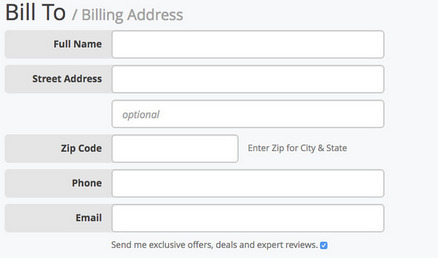_form_: (1, 1, 416, 270)
checkbox: (317, 239, 329, 251)
checkbox_with_label: (110, 238, 332, 253)
field: (110, 168, 386, 198), (110, 30, 385, 59), (110, 65, 385, 94), (111, 100, 385, 129), (110, 204, 385, 232), (111, 134, 239, 163)
field_with_label: (30, 64, 387, 95), (52, 29, 386, 60), (72, 167, 387, 199), (73, 203, 387, 233), (60, 132, 241, 164)
